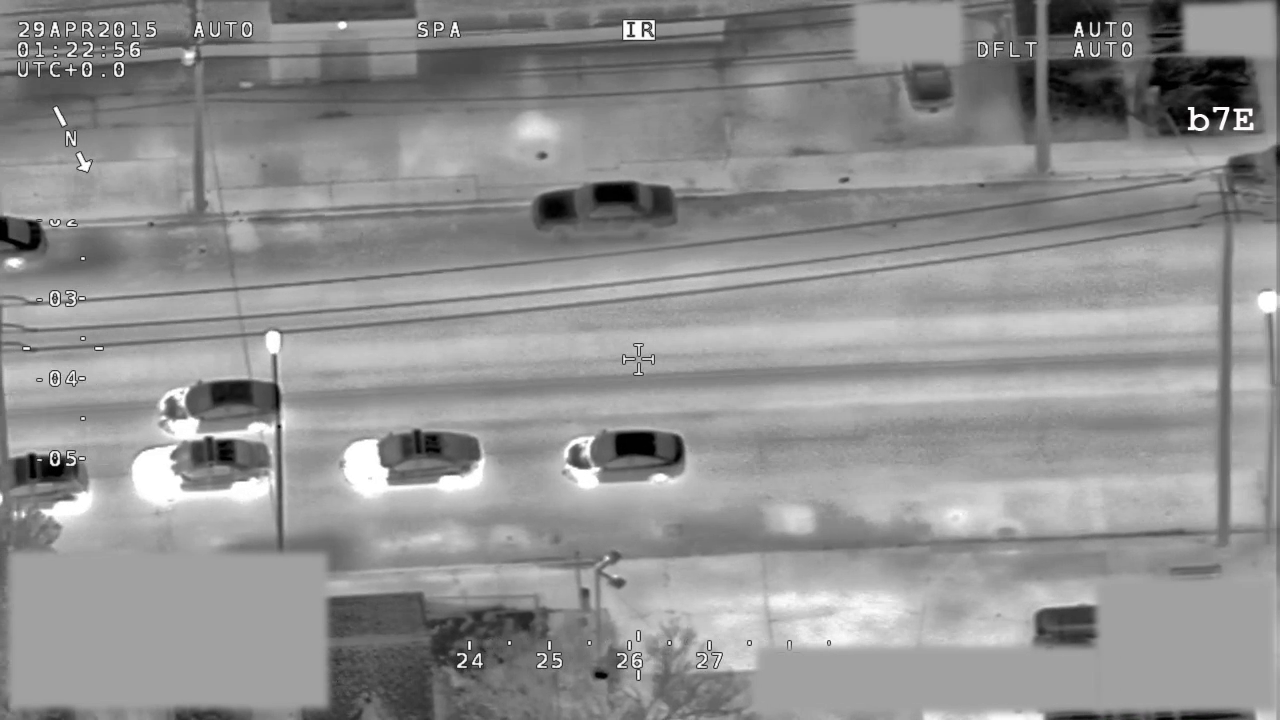vehicle: (129, 431, 280, 508), (336, 425, 487, 497), (528, 176, 685, 236), (157, 373, 285, 441), (560, 424, 692, 488), (1, 441, 99, 513), (1, 213, 52, 271)
